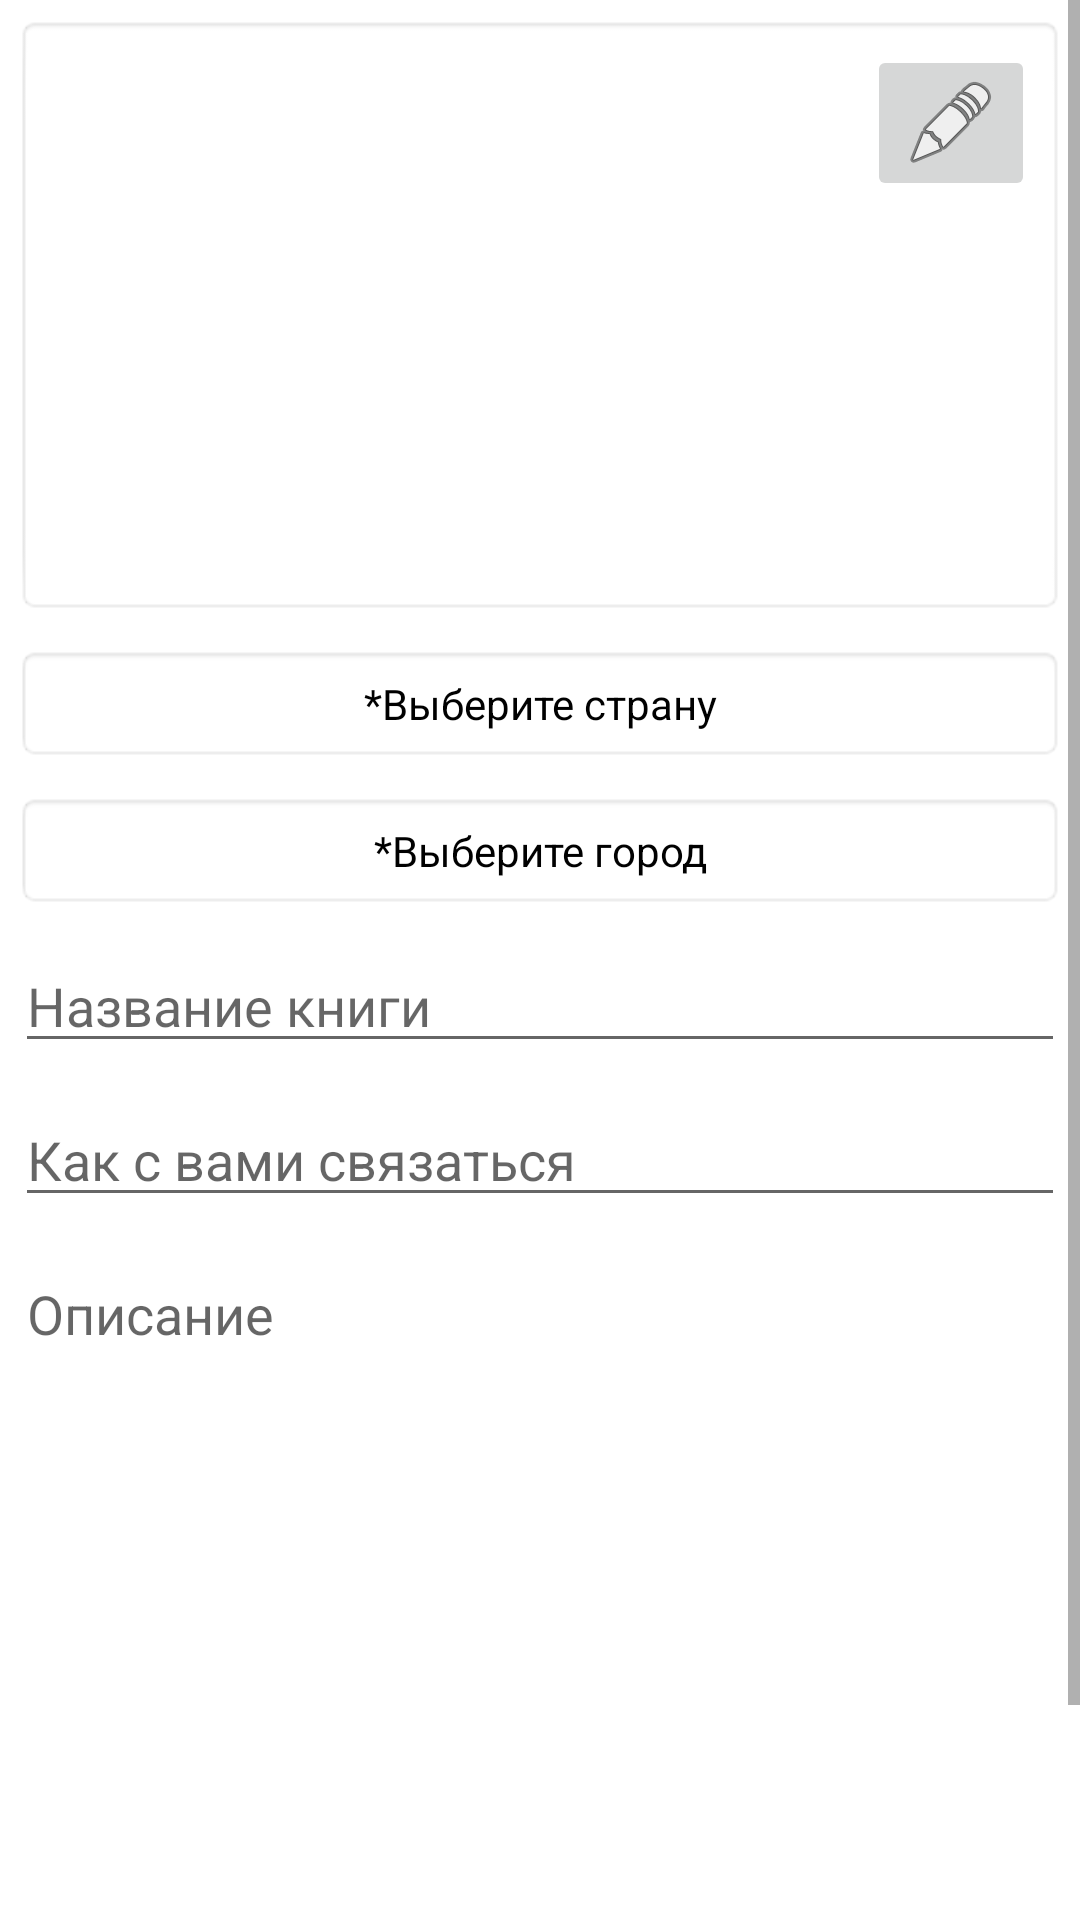

Icons on this 1080x1920 Android screen, each with its box as (x1, y1, x2, y2):
edit: (879, 63, 1023, 183)
